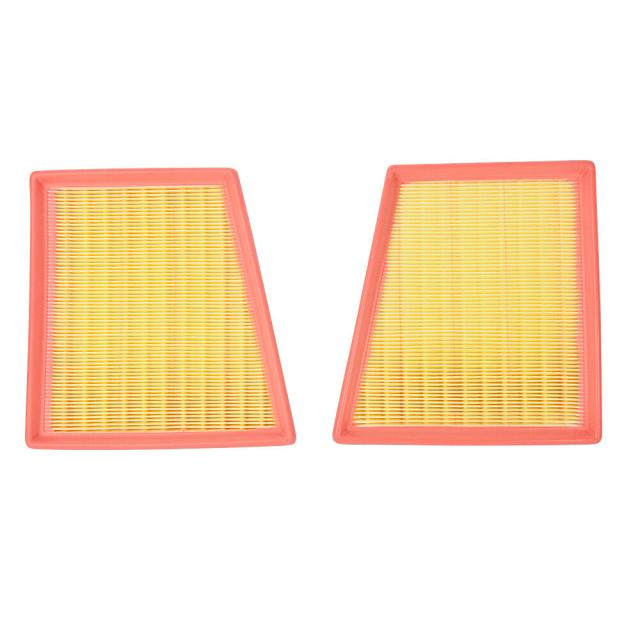air_filter: (329, 153, 608, 450), (21, 163, 298, 453)
